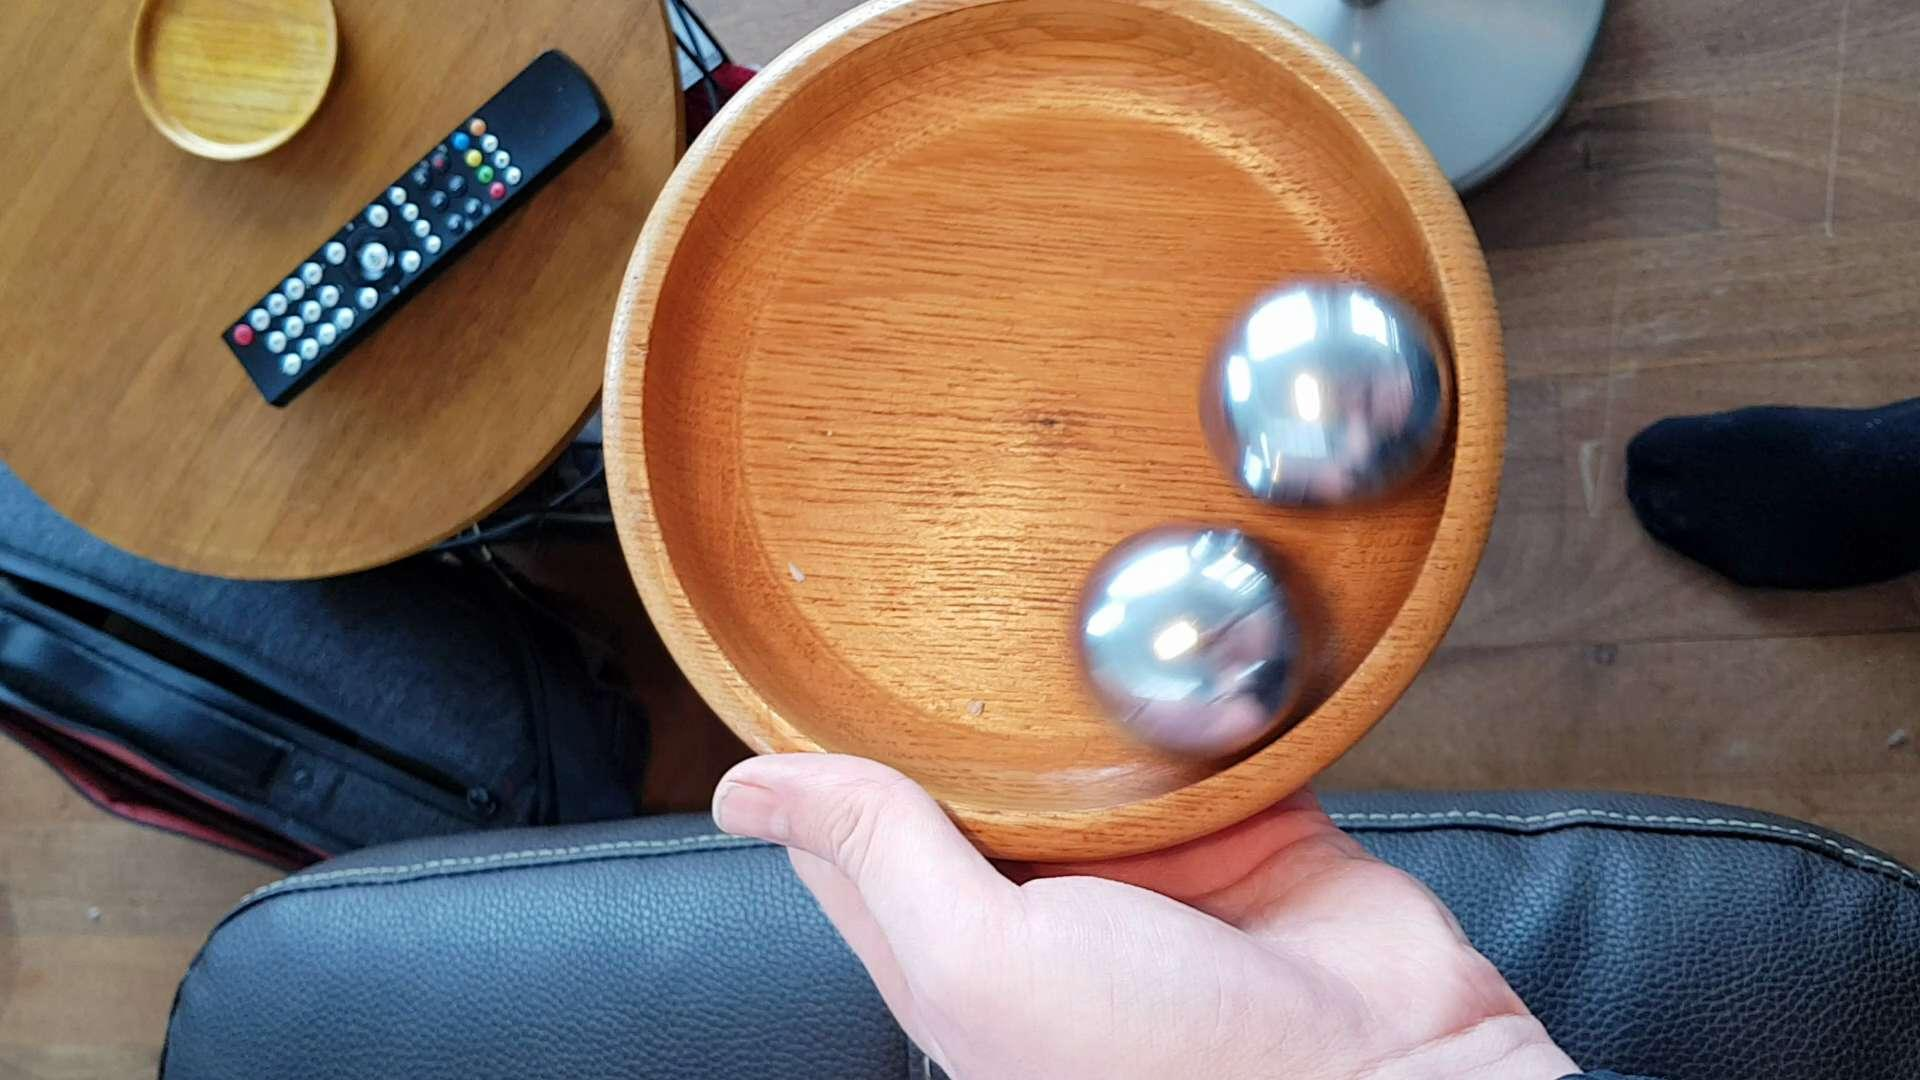sphere: (1077, 520, 1327, 761), (1209, 280, 1449, 512)
